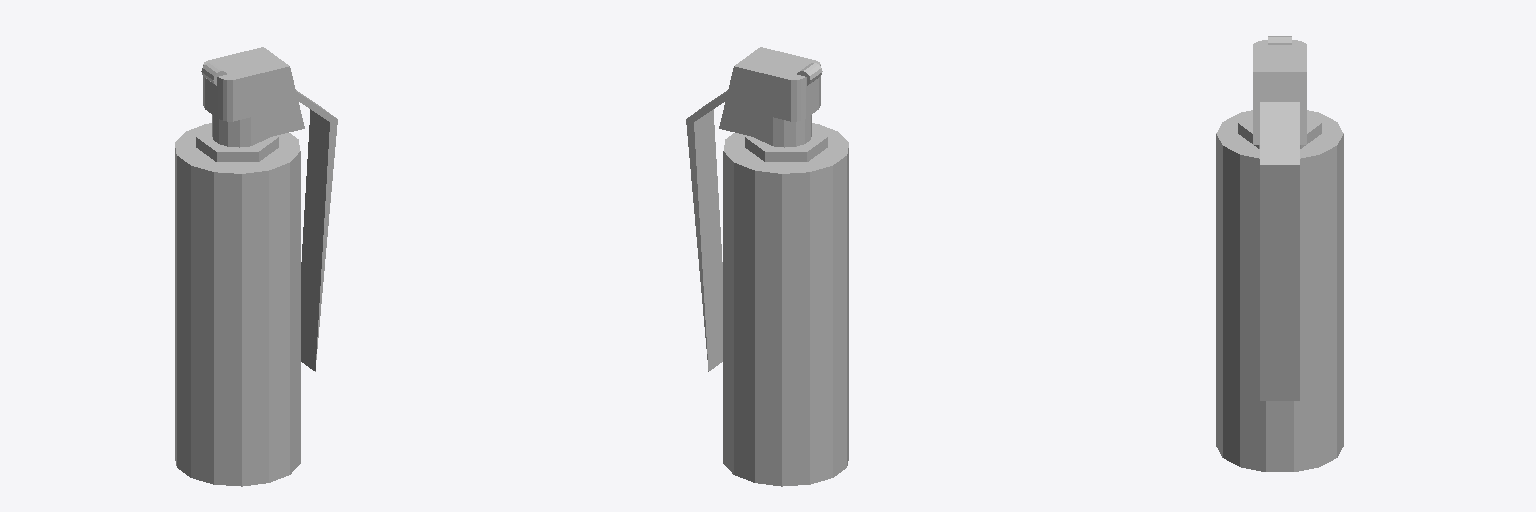
The model's file is grenade.obj.
3 renders of one model, left to right at view 1: azimuth 30°, elevation 25°; view 2: azimuth 150°, elevation 25°; view 3: azimuth 270°, elevation 25°, orthographic.
Parts seen in each view (by area): view 1: initialShadingGroup Mesh; view 2: initialShadingGroup Mesh; view 3: initialShadingGroup Mesh.
Part boxes in pixels (left/top/right/bottom): initialShadingGroup Mesh: left=175, top=47, right=337, bottom=486; initialShadingGroup Mesh: left=686, top=47, right=848, bottom=486; initialShadingGroup Mesh: left=1216, top=36, right=1343, bottom=471.
Bounding box in the file's own units: 0.6621 × 1.75 × 0.506.